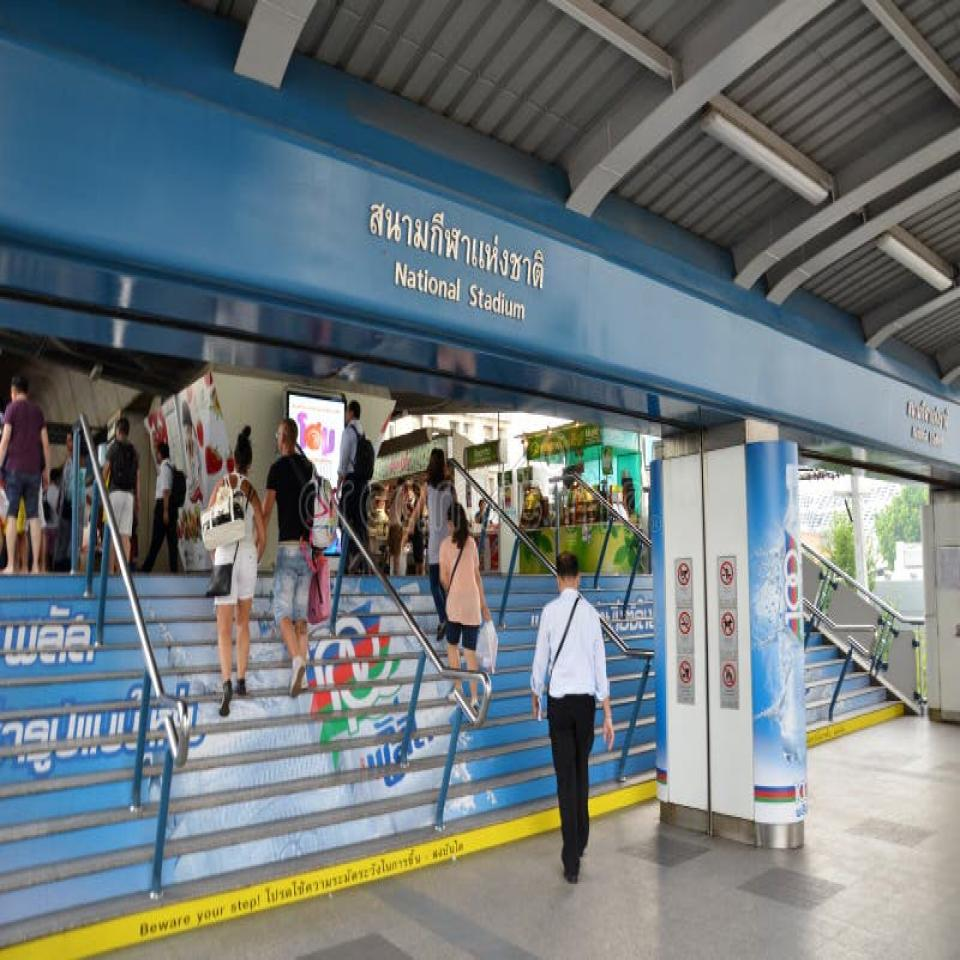National Stadium: (368, 202, 546, 322), (906, 400, 952, 446)
